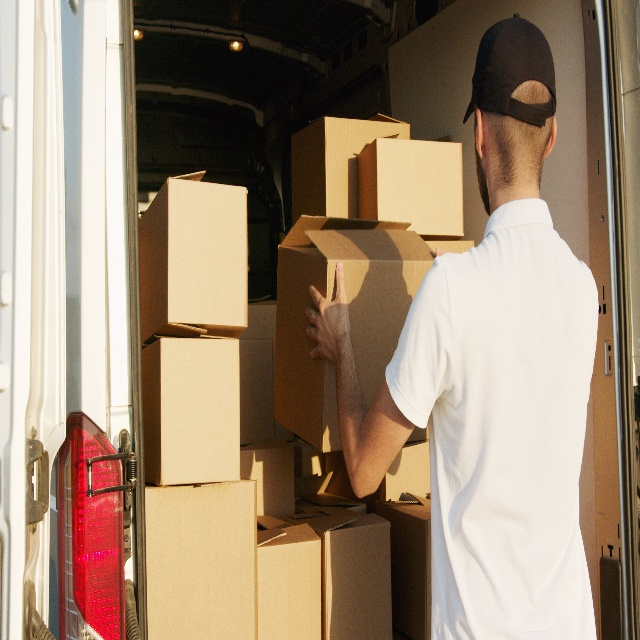Sin_guantes: (304, 254, 351, 368)
